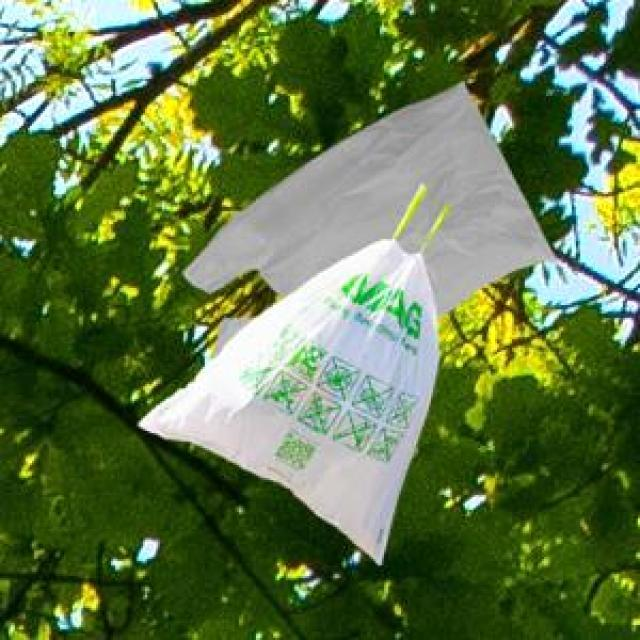Plastic_Bag: (135, 182, 447, 562), (180, 80, 552, 355)
